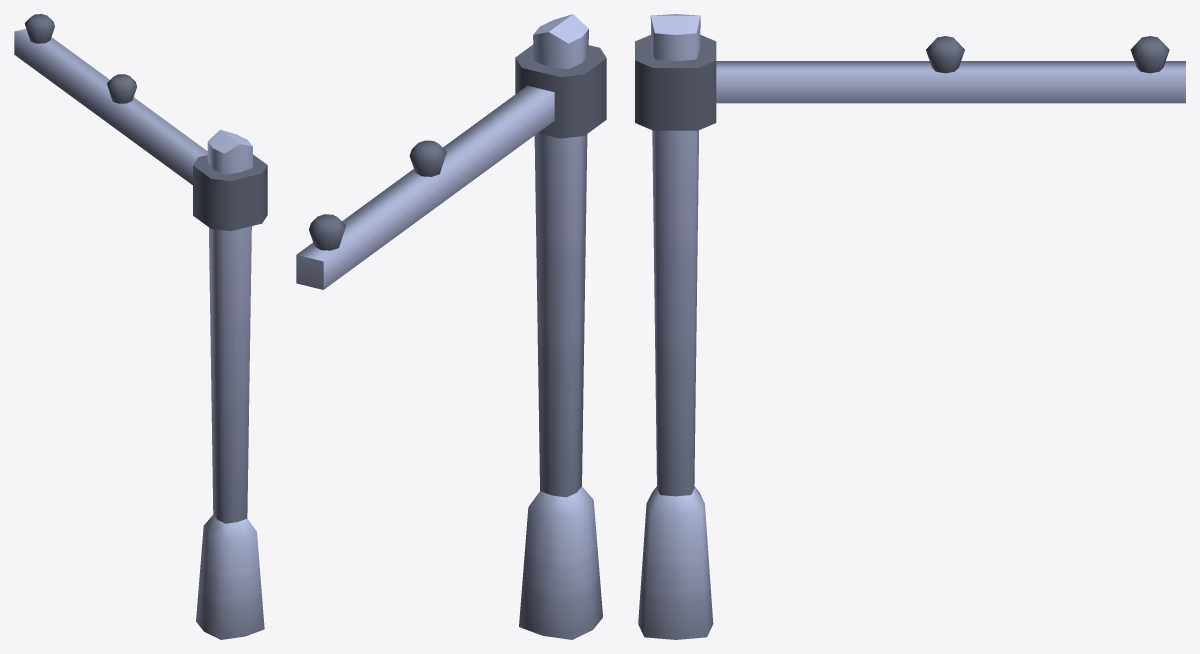
Rendered from electricity-side-single.glb.
3 views of the same model, side by side, from view 1: azimuth 30°, elevation 25°; view 2: azimuth 150°, elevation 25°; view 3: azimuth 270°, elevation 25° (orthographic). The views are drawn at different scales.
Visible parts, largest first — view 1: electricity-side-single; view 2: electricity-side-single; view 3: electricity-side-single.
Part boxes in pixels (bbox=[...]): electricity-side-single: bbox=[14, 14, 267, 639]; electricity-side-single: bbox=[296, 14, 606, 639]; electricity-side-single: bbox=[635, 14, 1185, 639].
Bounding box in the file's own units: 0.0634 × 0.525 × 0.4306.
Materials: 1 (1 with a texture image).
